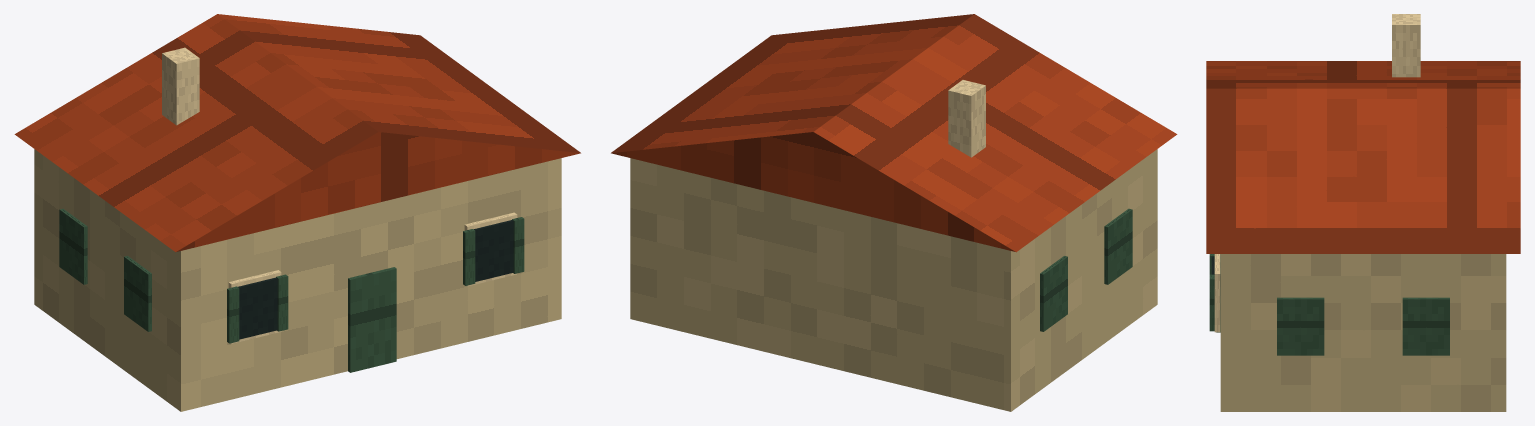
File: Hall.fbx
3 views of the same model, side by side, from view 1: azimuth 30°, elevation 25°; view 2: azimuth 150°, elevation 25°; view 3: azimuth 270°, elevation 25° (orthographic). The views are drawn at different scales.
Parts seen in each view (by area): view 1: Telhado duas águas.018, Paredes.018, Porta.018, Chaminé.016, Janela.052, Janela.053, Janela lateral.073, Janela lateral.072, Veneziana.104, Veneziana.106, Veneziana.105, Veneziana.107 (+2 smaller); view 2: Paredes.018, Telhado duas águas.018, Chaminé.016, Janela lateral.072, Janela lateral.073; view 3: Telhado duas águas.018, Paredes.018, Janela lateral.074, Janela lateral.075, Chaminé.016, Moldura.053, Veneziana.107.
Part boxes in pixels (left/top/right/bottom): Telhado duas águas.018: left=14, top=14, right=580, bottom=252; Paredes.018: left=34, top=149, right=561, bottom=411; Porta.018: left=348, top=267, right=396, bottom=372; Chaminé.016: left=162, top=47, right=199, bottom=125; Janela.052: left=238, top=277, right=277, bottom=339; Janela.053: left=474, top=220, right=513, bottom=281; Janela lateral.073: left=59, top=208, right=87, bottom=284; Janela lateral.072: left=124, top=256, right=151, bottom=331; Veneziana.104: left=227, top=286, right=239, bottom=343; Veneziana.106: left=463, top=229, right=475, bottom=285; Veneziana.105: left=276, top=274, right=288, bottom=331; Veneziana.107: left=512, top=217, right=524, bottom=273; Paredes.018: left=630, top=149, right=1157, bottom=411; Telhado duas águas.018: left=611, top=14, right=1177, bottom=252; Chaminé.016: left=948, top=80, right=985, bottom=157; Janela lateral.072: left=1104, top=208, right=1132, bottom=284; Janela lateral.073: left=1040, top=256, right=1067, bottom=331; Telhado duas águas.018: left=1206, top=61, right=1520, bottom=253; Paredes.018: left=1220, top=254, right=1506, bottom=411; Janela lateral.074: left=1277, top=297, right=1324, bottom=355; Janela lateral.075: left=1402, top=297, right=1449, bottom=355; Chaminé.016: left=1392, top=14, right=1420, bottom=77; Moldura.053: left=1214, top=254, right=1220, bottom=332; Veneziana.107: left=1209, top=274, right=1214, bottom=331.
Size of the model in its own units: 960 by 595 by 660.
5 materials, 5 textured.
